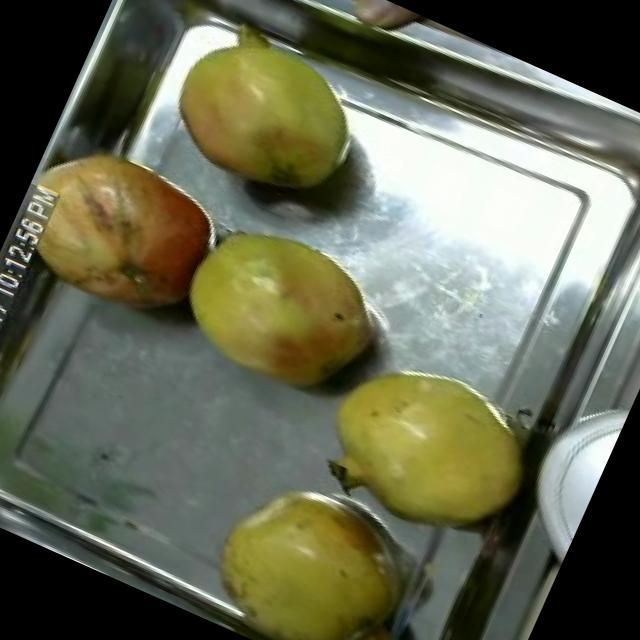fruit: (287, 322, 561, 574), (156, 197, 408, 423), (176, 438, 457, 640), (0, 116, 244, 346), (141, 0, 388, 223)
